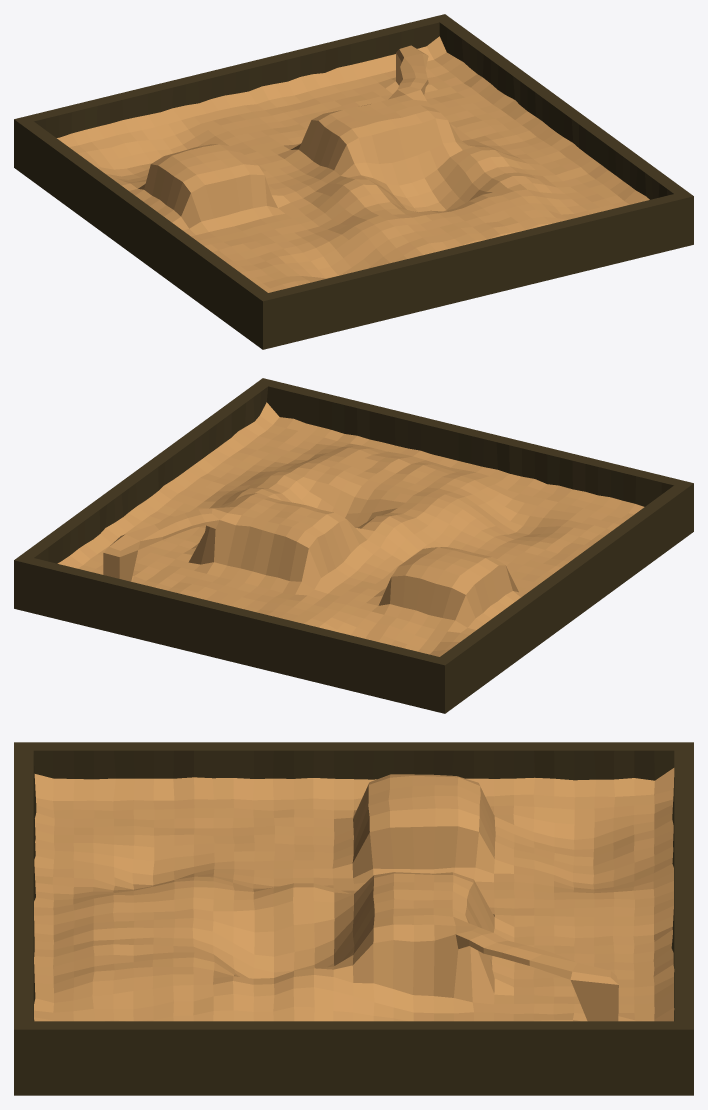
File: test_level.dae
3 renders of one model, top to bottom at view 1: azimuth 30°, elevation 25°; view 2: azimuth 150°, elevation 25°; view 3: azimuth 270°, elevation 25°, orthographic. The views are drawn at different scales.
Visible parts, largest first — view 1: Plane; view 2: Plane; view 3: Plane.
Boxes of the visible parts, bbox=[...] form: Plane: bbox=[14, 14, 693, 349]; Plane: bbox=[14, 378, 693, 713]; Plane: bbox=[14, 742, 693, 1095].
Size of the model in its own units: 33.59 by 33.59 by 4.93.
